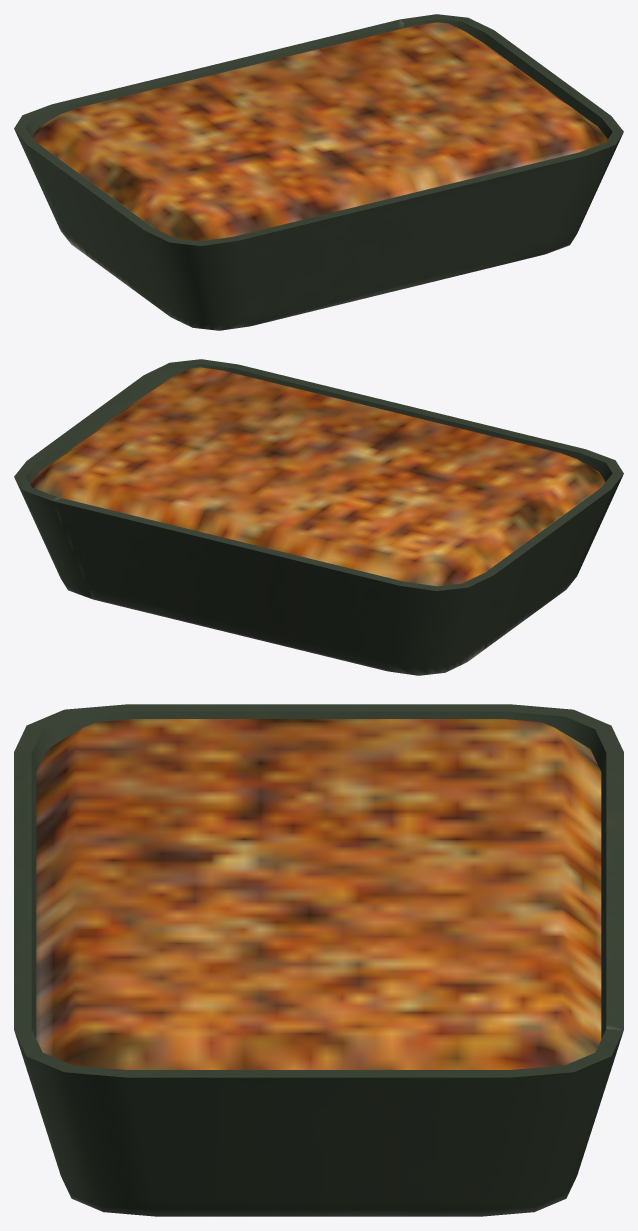
The model's file is KP_Lasagne.FBX.
3 views of the same model, one above another, from view 1: azimuth 30°, elevation 25°; view 2: azimuth 150°, elevation 25°; view 3: azimuth 270°, elevation 25° (orthographic). The views are drawn at different scales.
Parts seen in each view (by area): view 1: KP_Lasagne; view 2: KP_Lasagne; view 3: KP_Lasagne.
Boxes of the visible parts, x1,y1,x2,y2 form: KP_Lasagne: (14, 14, 623, 330); KP_Lasagne: (14, 359, 623, 675); KP_Lasagne: (14, 704, 623, 1216).
Size of the model in its own units: 38.49 by 8.73 by 26.58.
